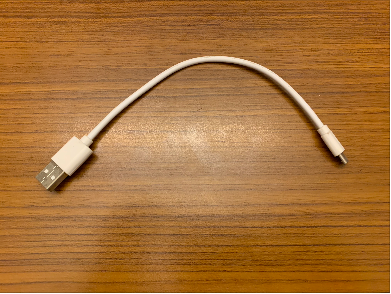object_name: (22, 47, 355, 203)
